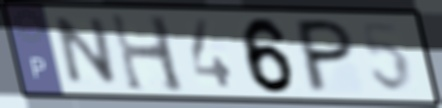4: (190, 16, 236, 92)
5: (357, 20, 417, 95)
6: (239, 15, 301, 96)
H: (106, 9, 190, 95)
N: (52, 14, 121, 87)
P: (296, 16, 356, 95)
